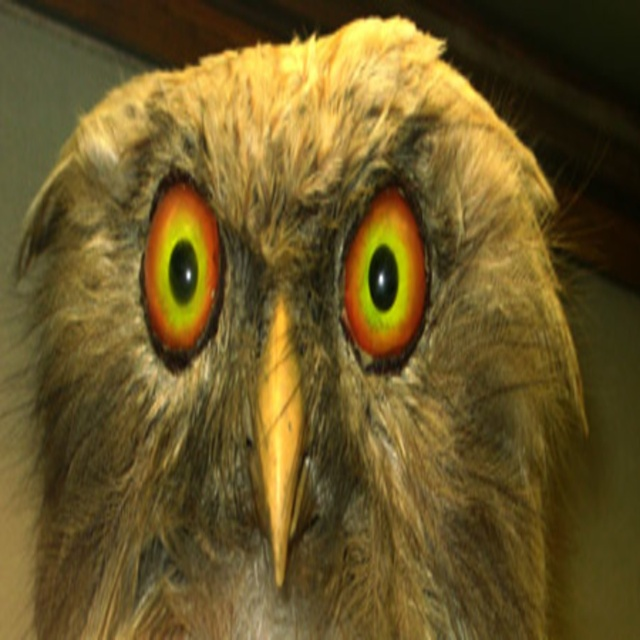Owl: (46, 3, 569, 637)
